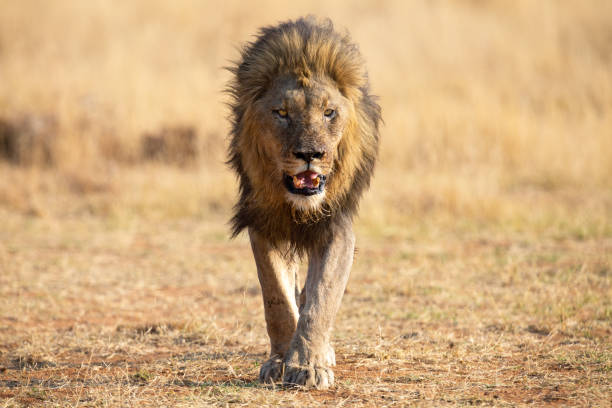lion: (223, 19, 399, 272)
